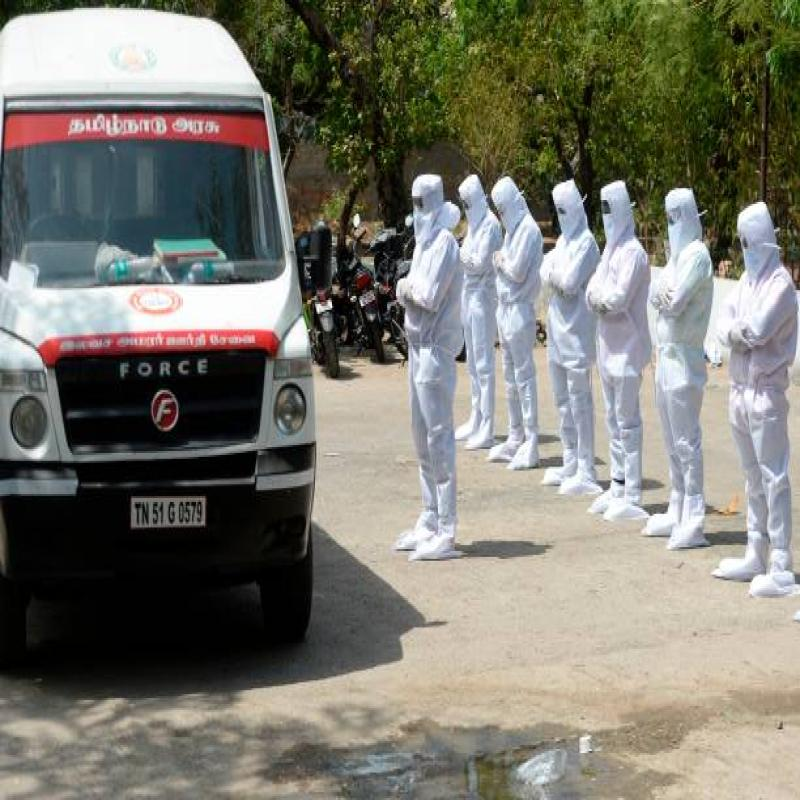ambulance: (2, 0, 342, 687)
